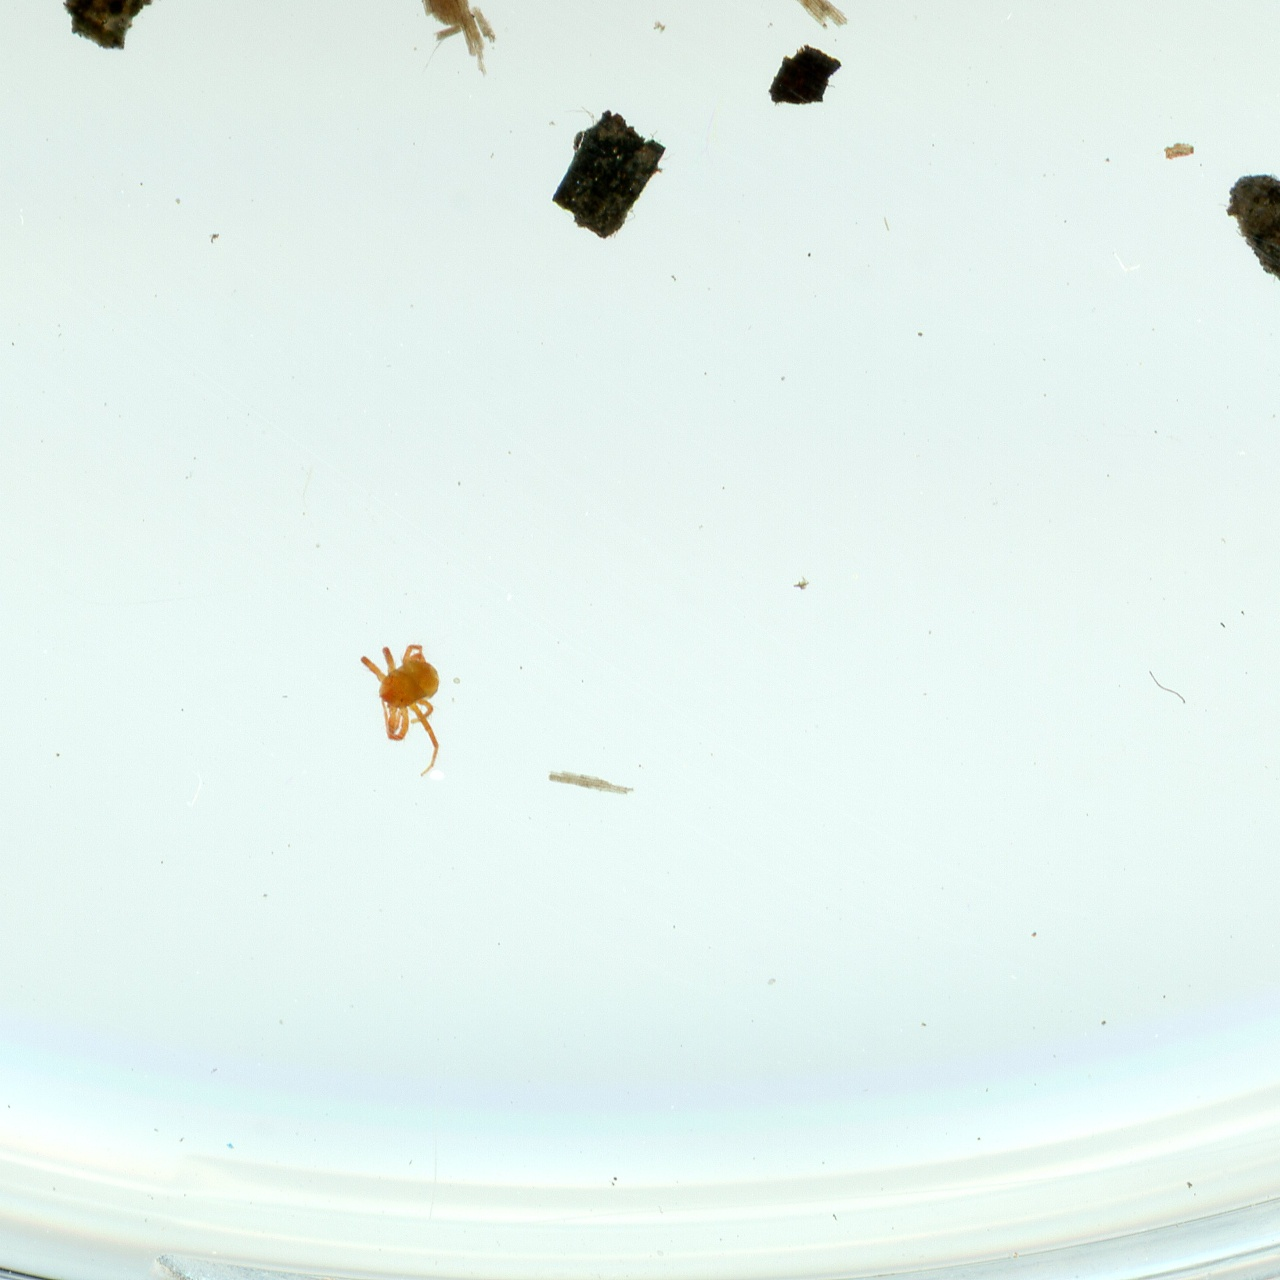arthropod: (349, 625, 482, 788)
